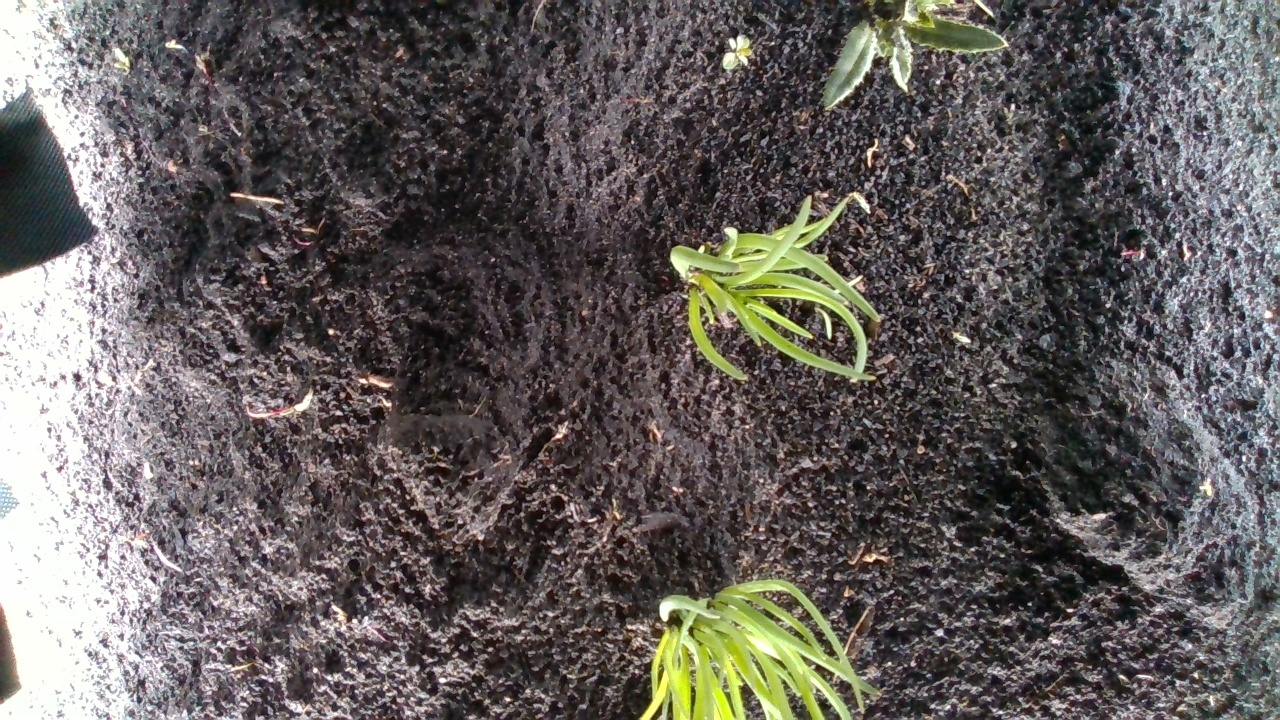weed: (722, 32, 752, 77)
